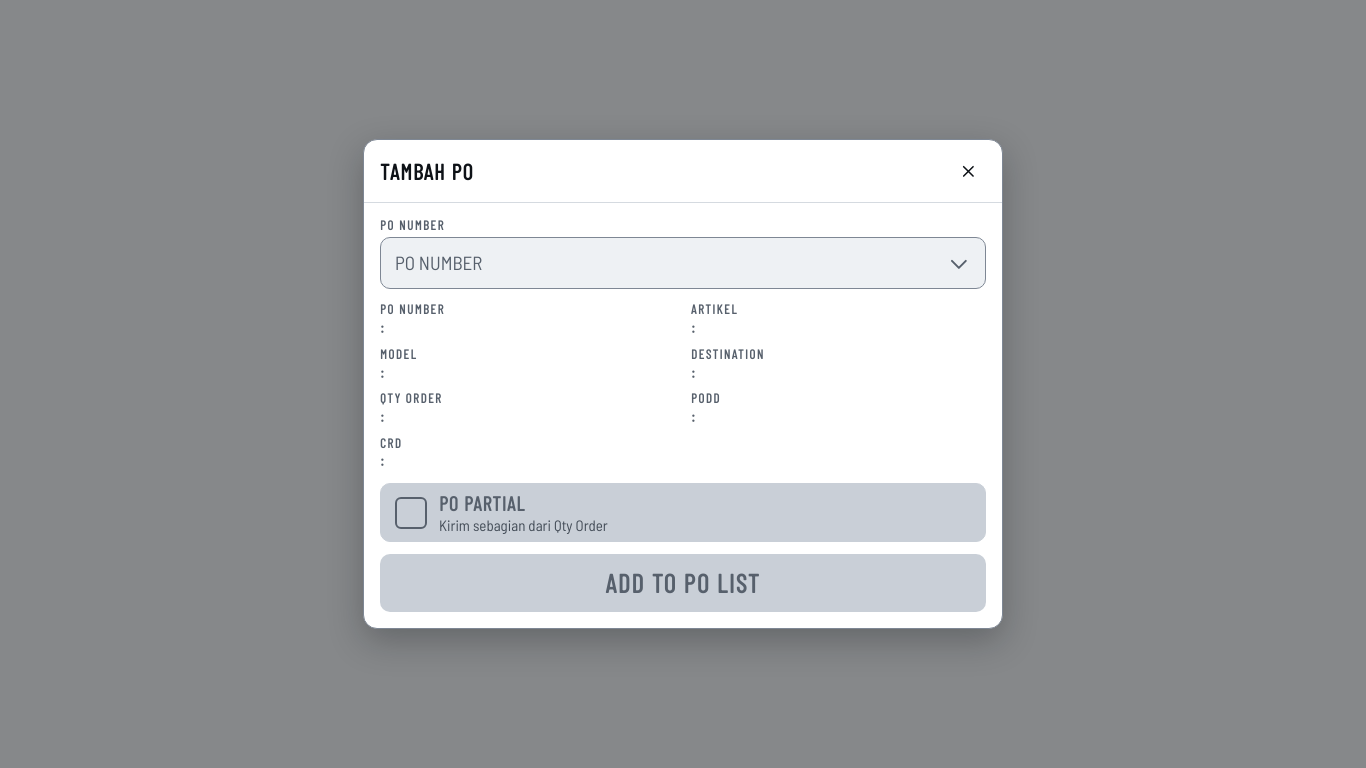
Test: S4 Add PO search (doc 05 §9.1, FR-03.2) › says when nothing matches
Step 1. Click the button "PO NUMBER" → click(439, 263), box [380,237,986,289]
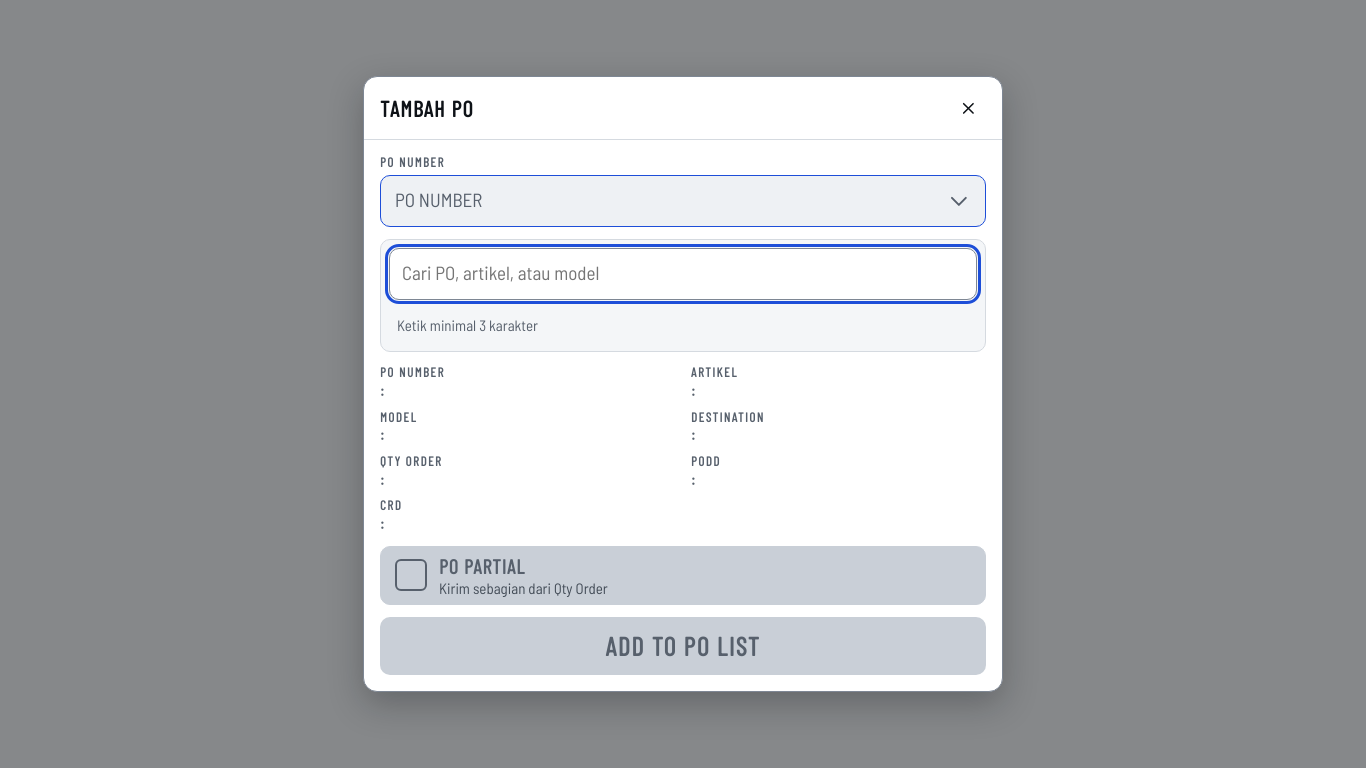
Step 2. Type "zzz" into the search field labelled "Cari PO, artikel, atau model" → (683, 274), box [389,248,977,300]
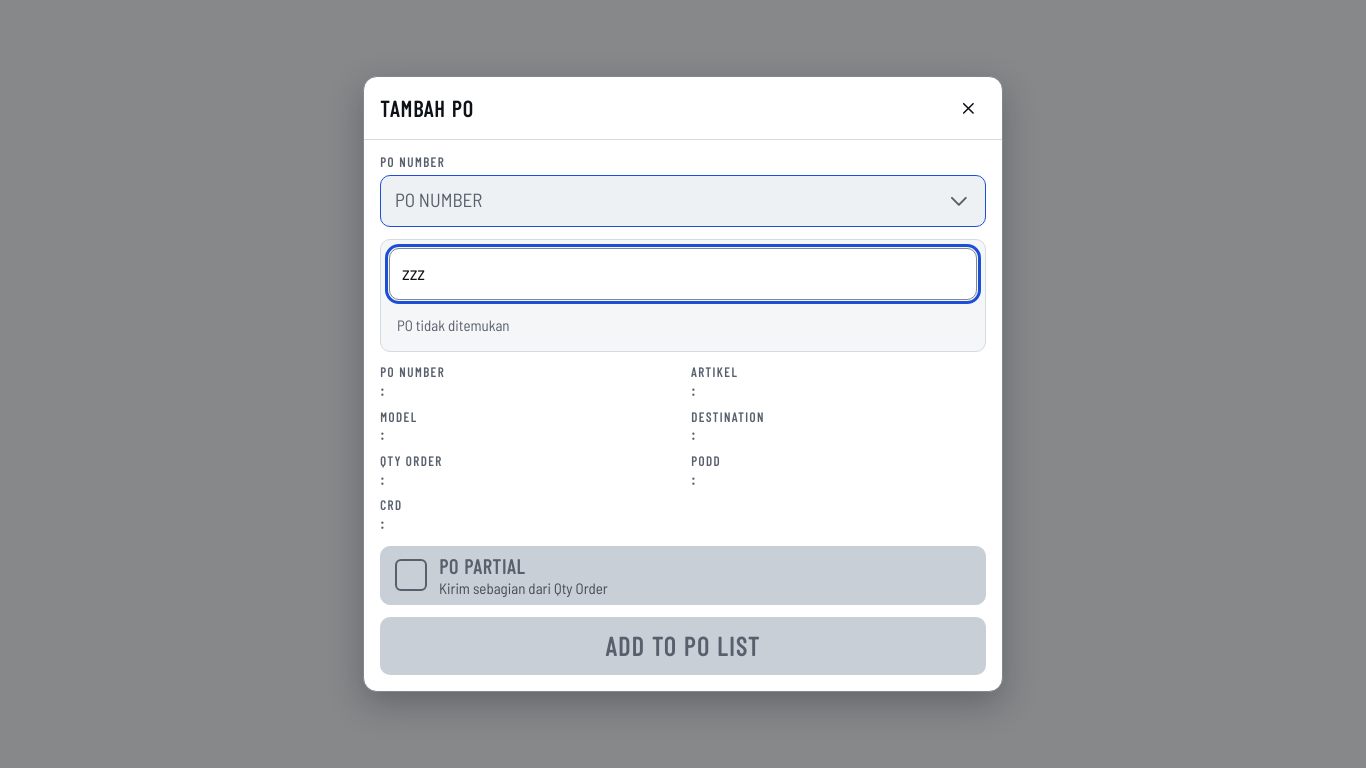
Result: the text "PO tidak ditemukan" is shown at [397,316,510,334]
